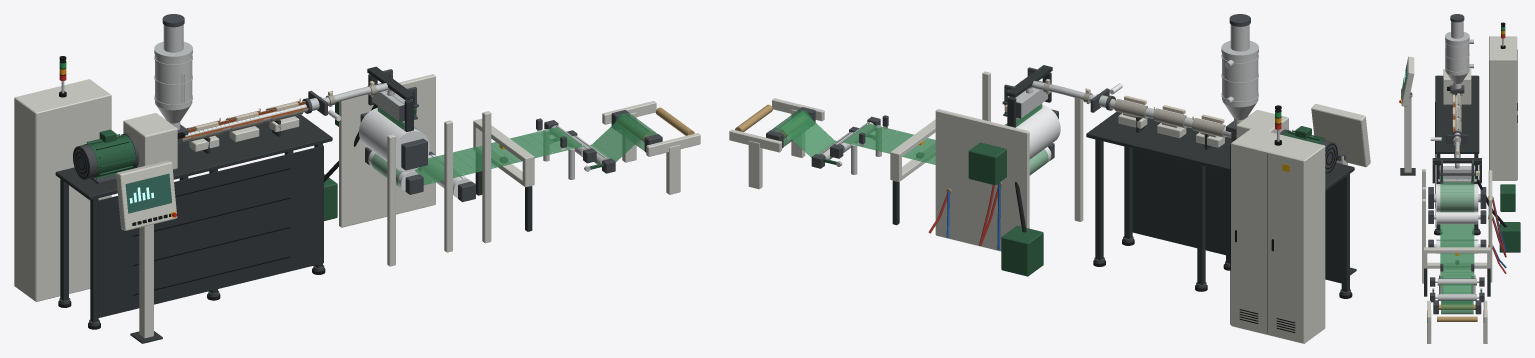
Rendered from castfilm-motion.glb.
3 views of the same model, side by side, from view 1: azimuth 30°, elevation 25°; view 2: azimuth 150°, elevation 25°; view 3: azimuth 270°, elevation 25° (orthographic). The views are drawn at different scales.
Parts seen in each view (by area): view 1: Extruder, Control cabinet, ChillStand, Extruder hopper, Operator panel head, WinderTurret, GaugeFrame, Operator panel stand, ChillRoll_body, AdapterAndMeltPipe, DieHanger, Winder_body (+5 smaller); view 2: Extruder, Control cabinet, ChillStand, Extruder hopper, Operator panel head, WinderTurret, GaugeFrame, ChillRoll_body, AdapterAndMeltPipe, DieHanger, Winder_body, Flat die (+1 smaller); view 3: Control cabinet, Extruder, ChillStand, Extruder hopper, ChillRoll_body, GaugeFrame, WinderTurret, Operator panel stand, SecondRoll_body, Winder_body, Operator panel head, ChillRoll stand (+36 smaller).
Boxes of the visible parts, x1,y1,x2,y2 form: Extruder: (55, 98, 332, 329); Control cabinet: (14, 79, 111, 301); ChillStand: (324, 69, 491, 266); Extruder hopper: (154, 14, 192, 138); Operator panel head: (116, 160, 177, 230); WinderTurret: (602, 101, 700, 194); GaugeFrame: (473, 118, 534, 231); Operator panel stand: (130, 224, 162, 343); ChillRoll_body: (359, 108, 429, 172); AdapterAndMeltPipe: (308, 81, 394, 121); DieHanger: (367, 66, 414, 131); Winder_body: (615, 113, 657, 150); Extruder: (1086, 95, 1354, 298); Control cabinet: (1230, 128, 1325, 343); ChillStand: (935, 67, 1083, 276); Extruder hopper: (1221, 14, 1258, 133); Operator panel head: (1311, 104, 1370, 167); WinderTurret: (729, 98, 824, 189); GaugeFrame: (890, 119, 935, 225); ChillRoll_body: (1005, 105, 1060, 159); AdapterAndMeltPipe: (1025, 79, 1122, 112); DieHanger: (1006, 65, 1052, 127); Winder_body: (771, 110, 811, 146); Flat die: (1004, 81, 1048, 119); Control cabinet: (1489, 36, 1517, 180); Extruder: (1434, 69, 1480, 235); ChillStand: (1422, 159, 1520, 283); Extruder hopper: (1445, 14, 1473, 93); ChillRoll_body: (1434, 184, 1480, 212); GaugeFrame: (1424, 247, 1490, 296); WinderTurret: (1427, 300, 1487, 343); Operator panel stand: (1400, 92, 1415, 175); SecondRoll_body: (1434, 212, 1480, 224); Winder_body: (1441, 300, 1473, 314); Operator panel head: (1399, 56, 1414, 106); ChillRoll stand: (1428, 187, 1506, 257).
Bounding box in the file's own units: 6.49 × 2.75 × 1.72.
